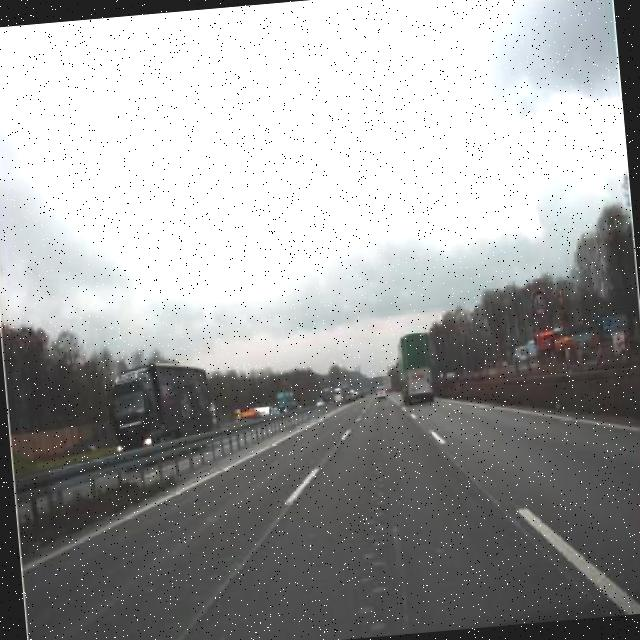Ograniczenie predkosci do 60: (528, 286, 551, 324)
